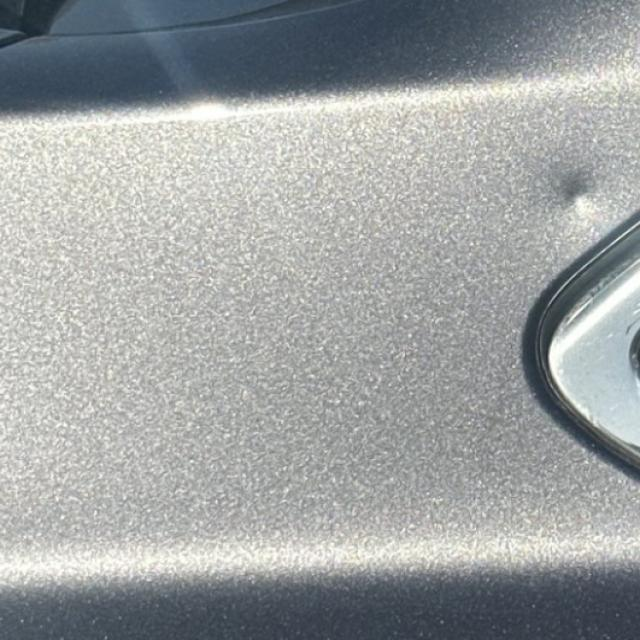dents: (558, 171, 622, 249)
